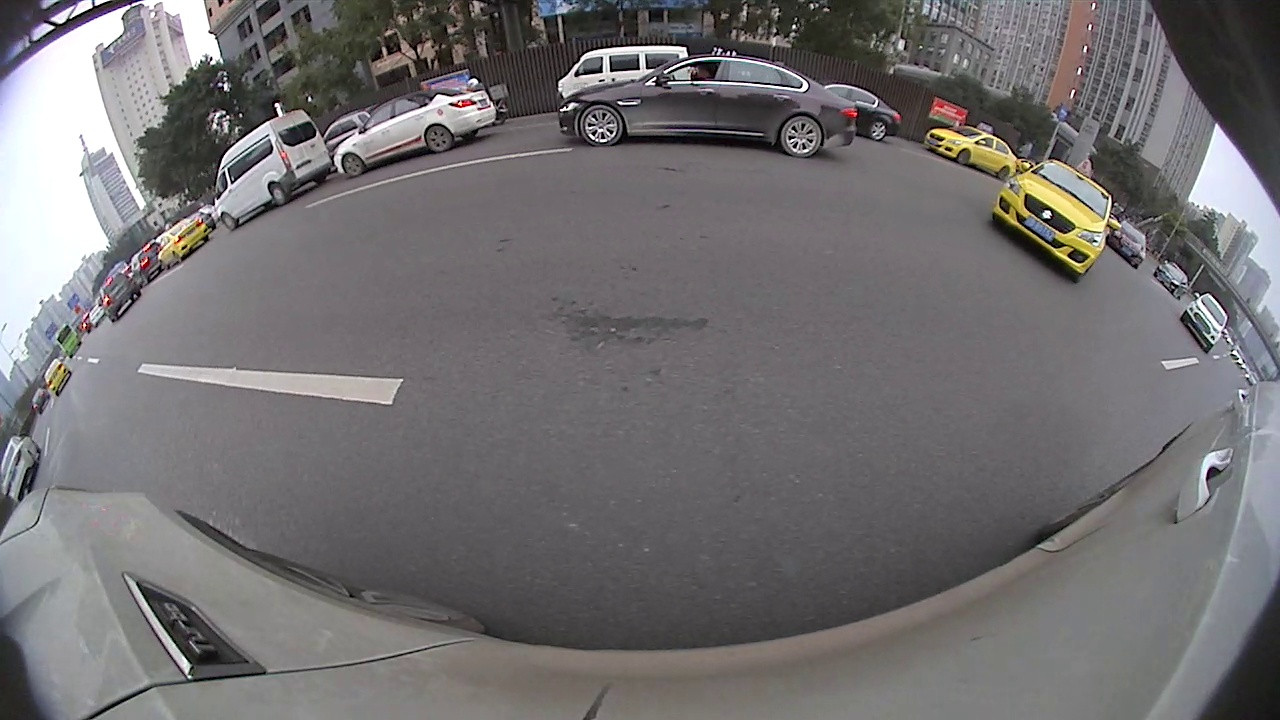car: (557, 55, 858, 160), (992, 159, 1112, 285), (330, 89, 497, 178), (213, 108, 333, 229), (555, 45, 690, 102), (923, 122, 1018, 180), (823, 83, 903, 144), (1180, 293, 1228, 355), (157, 217, 211, 271), (1, 434, 41, 503), (1105, 218, 1149, 269), (98, 271, 141, 323), (1153, 261, 1191, 300), (44, 358, 72, 397)
front: (578, 106, 623, 147), (342, 157, 362, 175), (222, 213, 235, 227), (957, 151, 970, 163)
rear: (781, 118, 821, 158), (426, 127, 451, 152), (870, 120, 889, 140), (271, 185, 285, 204), (997, 166, 1011, 180)
